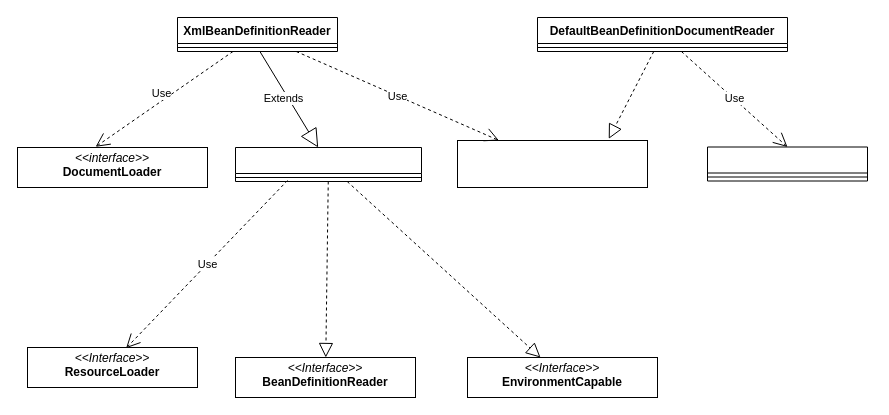
Image size: 889x415. Some labels were removed from this diagram. Each missing label, with the centre of its shape:
"<<Interface>> BeanDefinitionDocumentReader" belongs at point 552,164.
"AbstractBeanDefinitionReader" belongs at point 328,164.
"BeanDefinitionParseDelegate" belongs at point 787,163.
